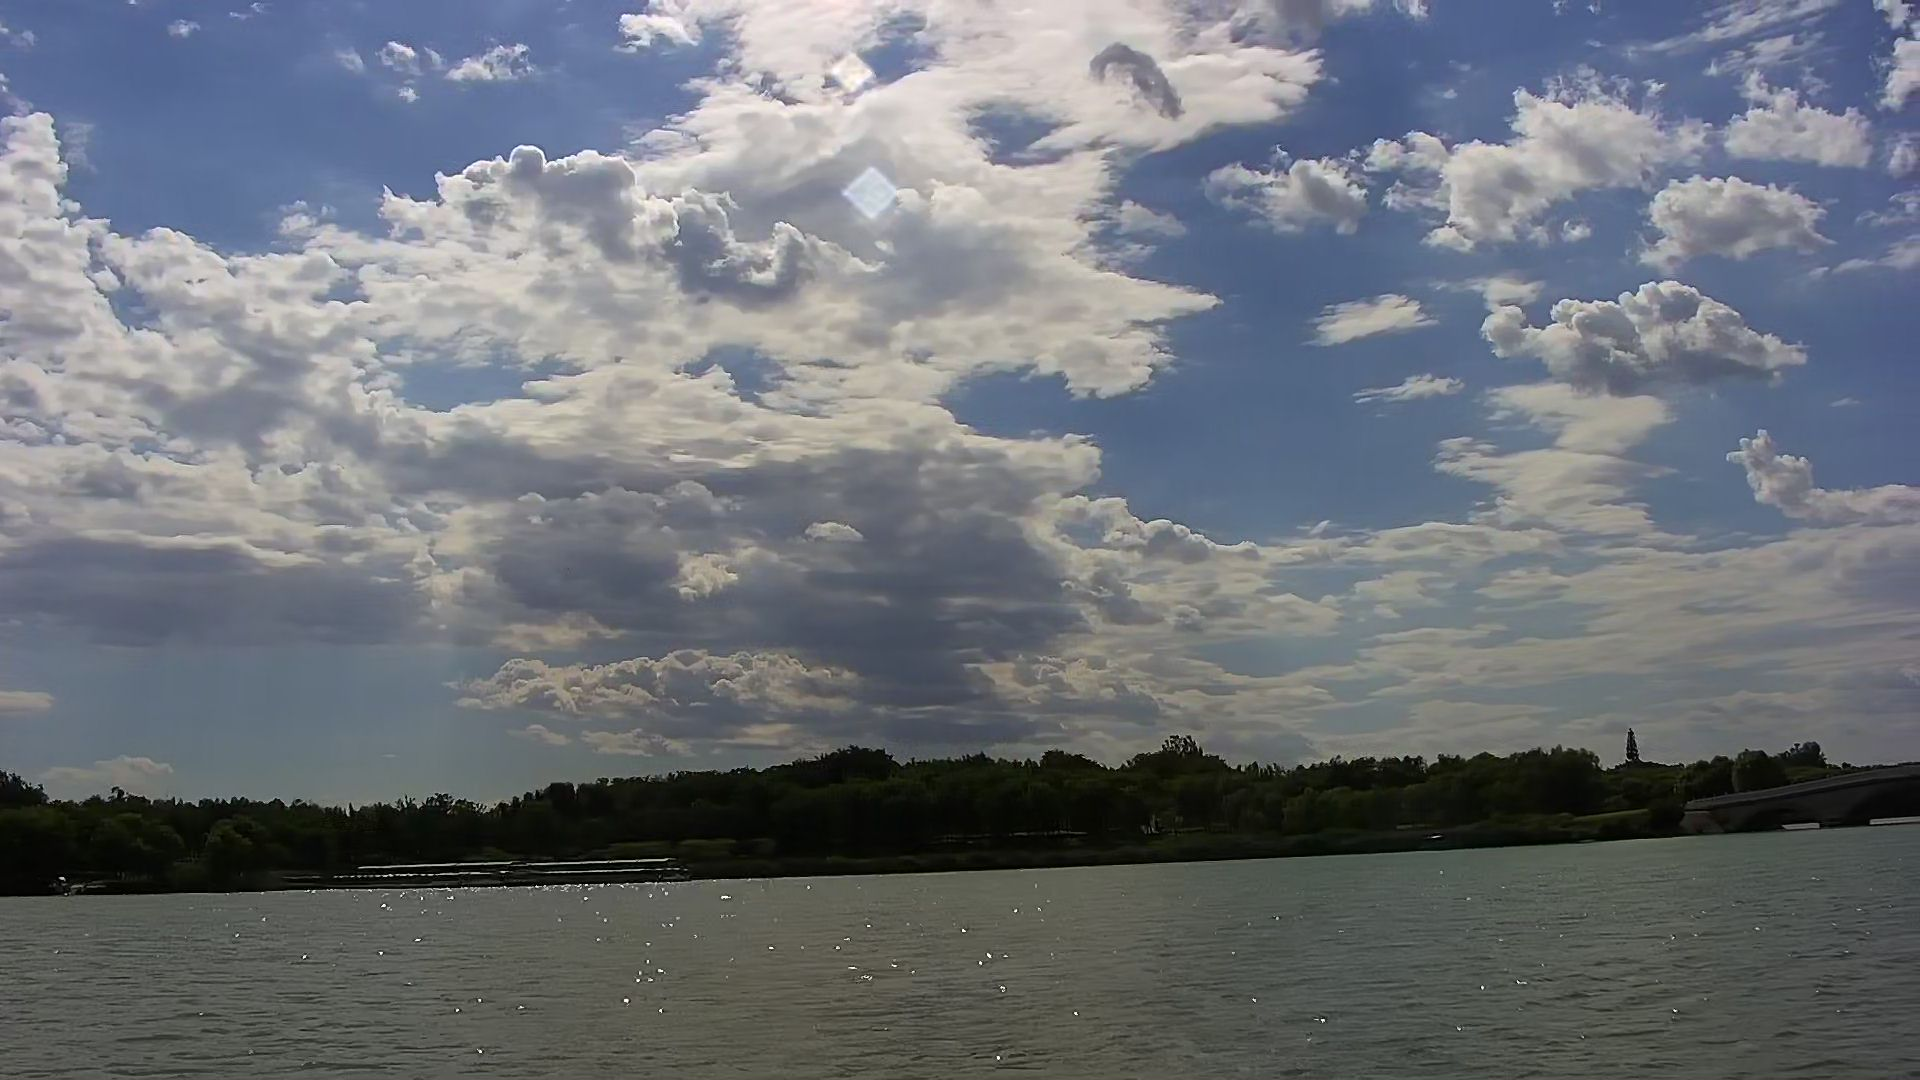harbor: (364, 855, 667, 880)
